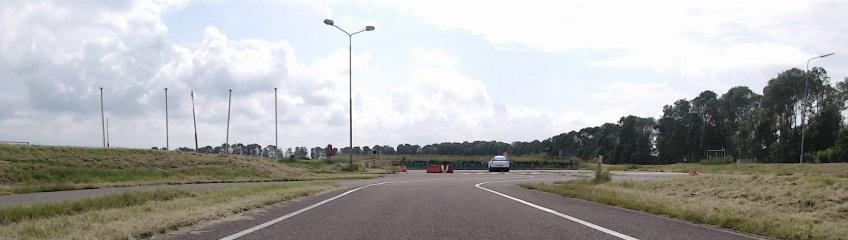Car: (488, 155, 509, 173)
